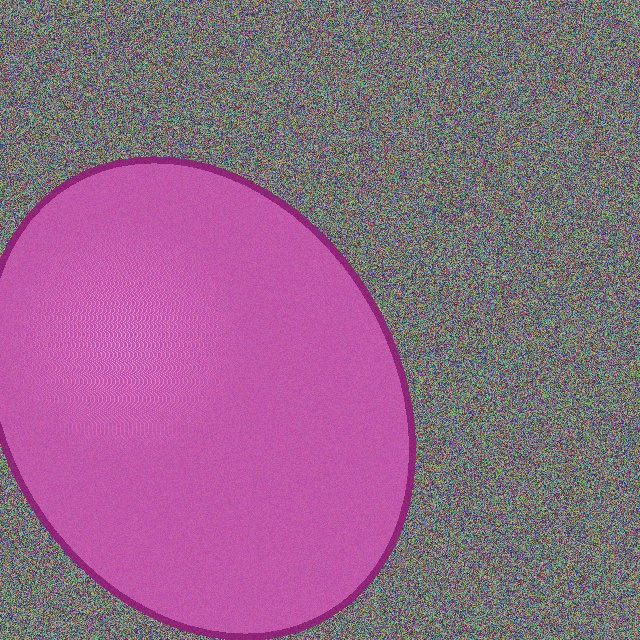lens: (0, 160, 410, 636)
